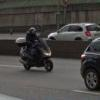Motorcycle: (9, 28, 57, 78)
